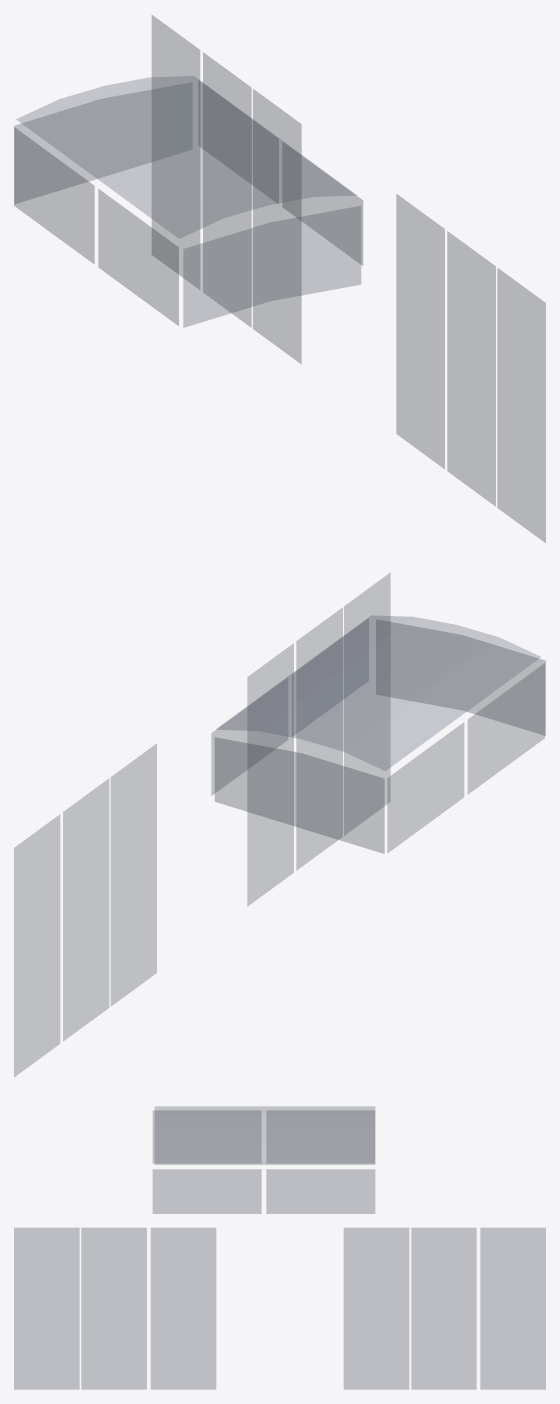
The model's file is windowsseethrough.fbx.
3 views of the same model, one above another, from view 1: azimuth 30°, elevation 25°; view 2: azimuth 150°, elevation 25°; view 3: azimuth 270°, elevation 25° (orthographic). The views are drawn at different scales.
Visible parts, largest first — view 1: Plane.021; view 2: Plane.021; view 3: Plane.021.
Part boxes in pixels (x1=…): Plane.021: x1=14, y1=15, x2=545, y2=542; Plane.021: x1=14, y1=573, x2=545, y2=1076; Plane.021: x1=14, y1=1106, x2=545, y2=1389.
Size of the model in its own units: 1123 by 1235 by 2901.
